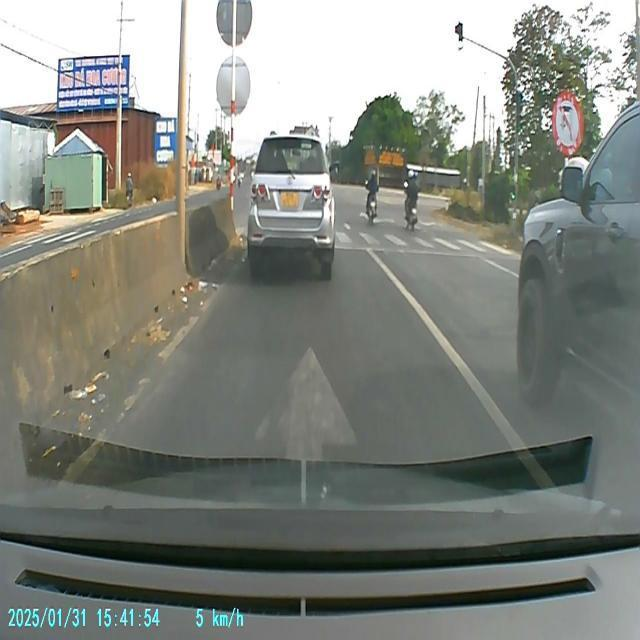124a-cam-quay-dau-xe: (552, 92, 584, 156)
